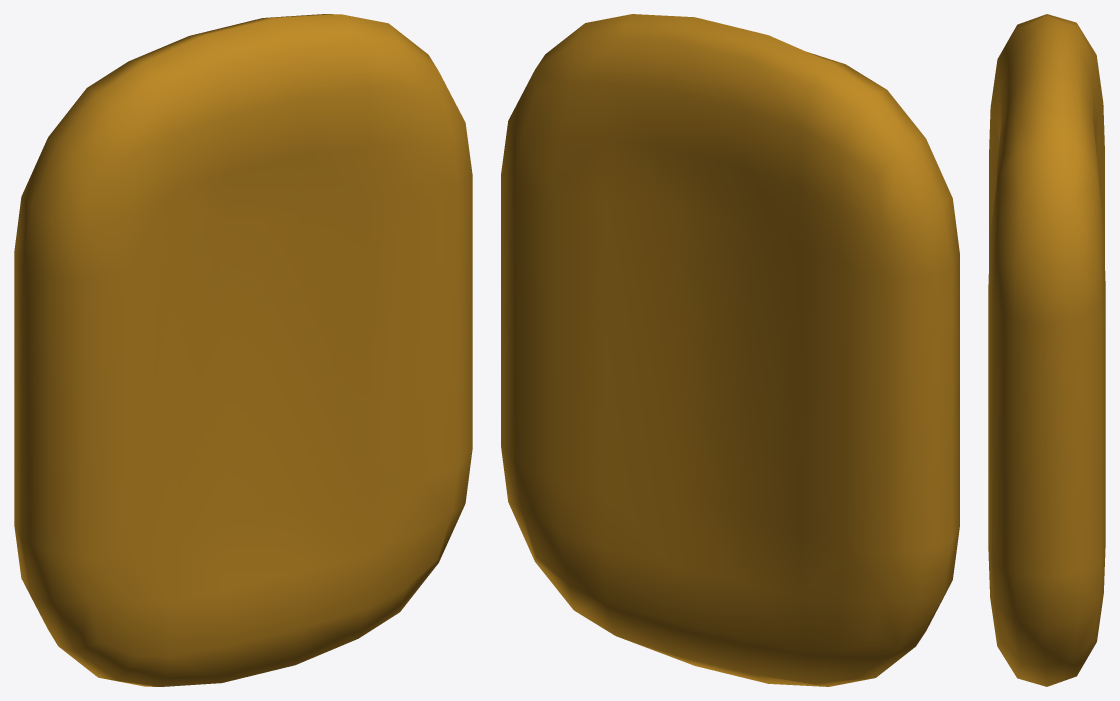
File: Misbon.fbx
3 views of the same model, side by side, from view 1: azimuth 30°, elevation 25°; view 2: azimuth 150°, elevation 25°; view 3: azimuth 270°, elevation 25° (orthographic). The views are drawn at different scales.
Parts seen in each view (by area): view 1: polySurface3; view 2: polySurface3; view 3: polySurface3.
Boxes of the visible parts, x1,y1,x2,y2 form: polySurface3: (14, 14, 472, 686); polySurface3: (501, 14, 959, 686); polySurface3: (988, 14, 1105, 686).
Bounding box in the file's own units: 1.2 × 1.68 × 0.2971.
